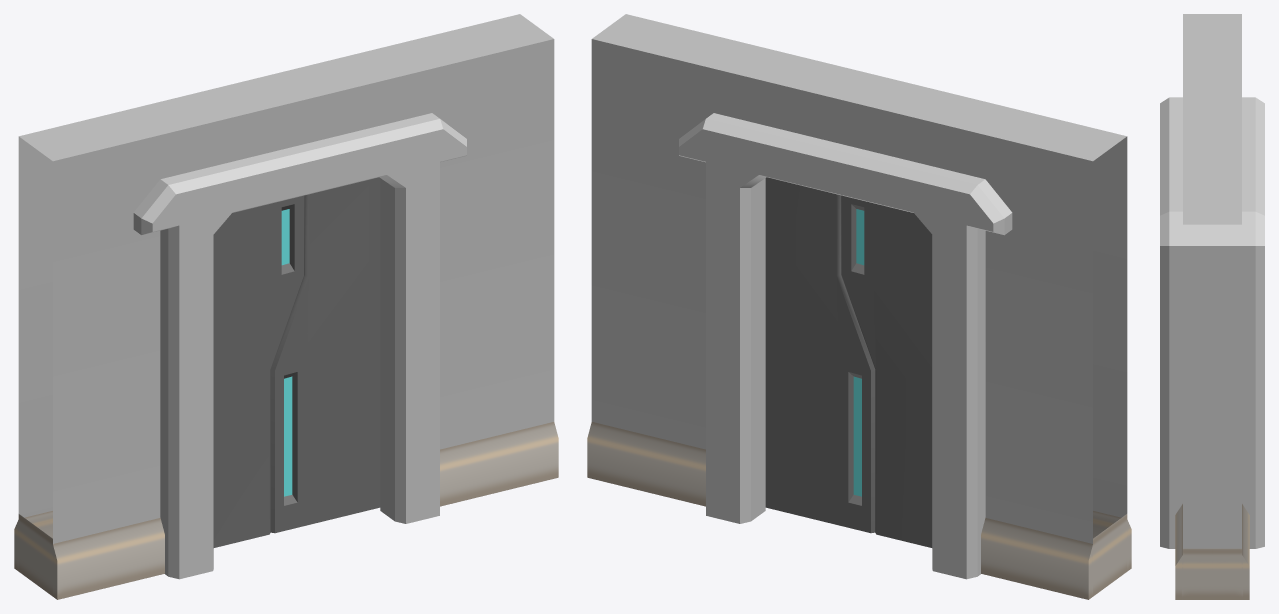
Rendered from Door-IN-wall.fbx.
The picture shows the model from 3 angles, left to right: view 1: azimuth 30°, elevation 25°; view 2: azimuth 150°, elevation 25°; view 3: azimuth 270°, elevation 25°; orthographic projection. The views are drawn at different scales.
Parts seen in each view (by area): view 1: Door_wall, door_border1, door_closed7, door_closed6; view 2: Door_wall, door_border1, door_closed7, door_closed6; view 3: door_border1, Door_wall.
Boxes of the visible parts, <box> form: Door_wall: <box>14,14,558,599</box>; door_border1: <box>133,113,466,579</box>; door_closed7: <box>270,177,380,533</box>; door_closed6: <box>213,195,304,547</box>; Door_wall: <box>587,14,1131,599</box>; door_border1: <box>679,113,1012,579</box>; door_closed7: <box>765,177,875,533</box>; door_closed6: <box>841,195,932,547</box>; door_border1: <box>1160,97,1264,548</box>; Door_wall: <box>1175,14,1249,599</box>.
Size of the model in its own units: 4 by 3.32 by 0.8406.
